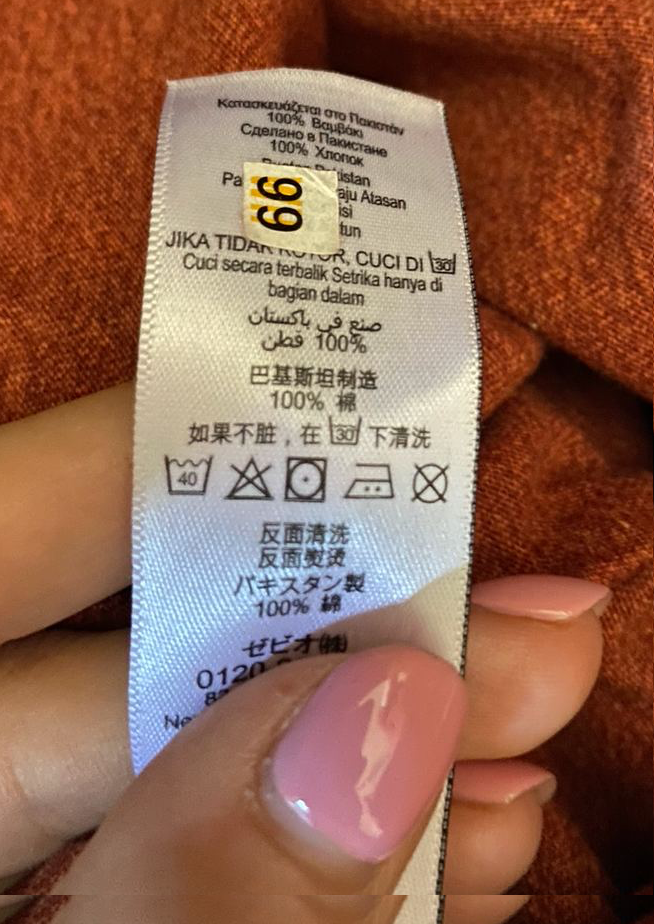do_not_bleach: (224, 454, 279, 508)
do_not_dry_clean: (406, 456, 454, 510)
ironing_at_med_temp: (341, 456, 402, 506)
tumble_drying_low_temps: (283, 450, 330, 506)
wash_at_or_below_30: (425, 248, 460, 275)
wash_at_or_below_40: (160, 448, 218, 503)
